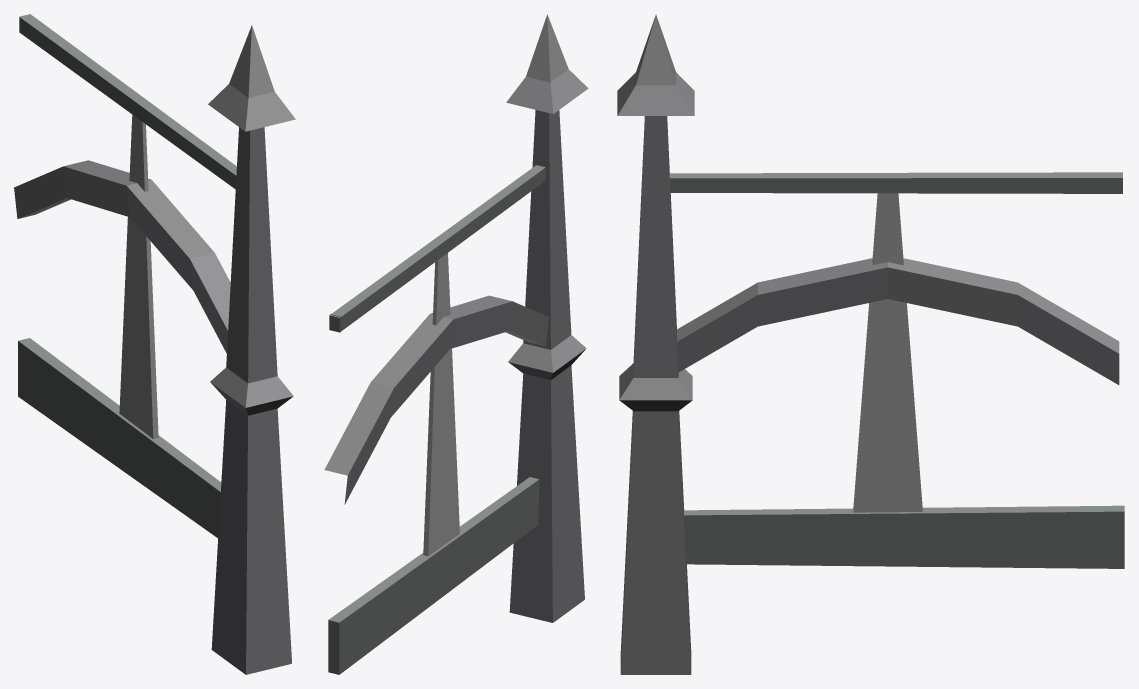
Rendered from FenceIronSmall_01.glb.
3 views of the same model, side by side, from view 1: azimuth 30°, elevation 25°; view 2: azimuth 150°, elevation 25°; view 3: azimuth 270°, elevation 25° (orthographic). The views are drawn at different scales.
Parts seen in each view (by area): view 1: FenceIronSmall_01; view 2: FenceIronSmall_01; view 3: FenceIronSmall_01.
Part boxes in pixels (bbox=[...]): FenceIronSmall_01: bbox=[14, 14, 295, 674]; FenceIronSmall_01: bbox=[324, 14, 588, 674]; FenceIronSmall_01: bbox=[617, 14, 1124, 674].
Size of what is drawn, in the model's own units: 0.1294 by 1.55 by 1.09.
Materials: 1 (1 with a texture image).
